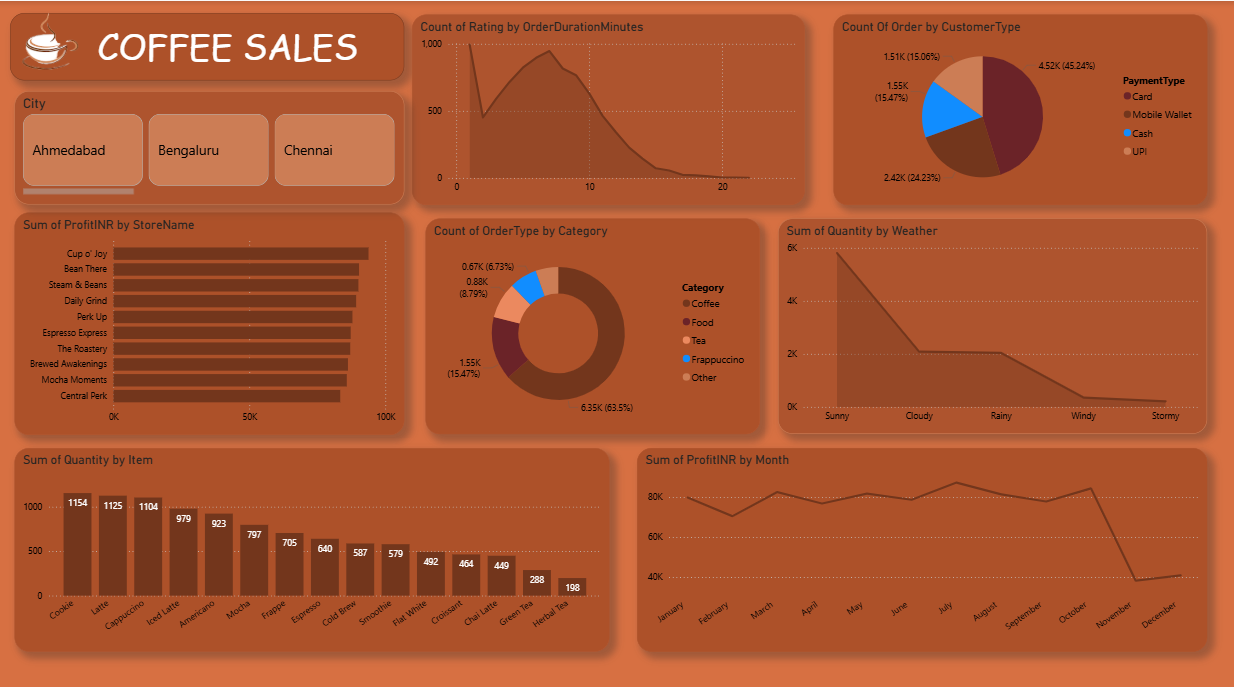

What the dashboard file says about the page in this screenshot:
{"tool":"powerbi","page":{"name":"Page 1","canvas":[1700,950],"ordinal":0},"visuals":[{"type":"group","id":"g1","title":"Group 1","box":[0,0,558,110],"z":0},{"type":"textbox","box":[16,17.4,542,92.6],"z":3,"group":"g1"},{"type":"image","box":[0,0,135.5,110],"z":503,"group":"g1"},{"type":"clusteredBarChart","fields":{"Category":["Sheet1.StoreName"],"Y":["Sum(Sheet1.ProfitINR)"]},"box":[22,290,536,306],"z":1000},{"type":"donutChart","fields":{"Category":["Sheet1.Category"],"Y":["CountNonNull(Sheet1.OrderType)"]},"box":[588.3,300,460,296.7],"z":2000},{"type":"clusteredColumnChart","fields":{"Category":["Sheet1.Item"],"Y":["Sum(Sheet1.Quantity)"]},"box":[22,614,818,280],"z":3000},{"type":"pieChart","title":"Count Of Order by CustomerType","fields":{"Y":["CountNonNull(Sheet1.OrderType)"],"Category":["Sheet1.PaymentType"]},"box":[1148,18,514,262],"z":4000},{"type":"lineChart","fields":{"Category":["Sheet1.OrderDate.Variation.Date Hierarchy.Month"],"Y":["Sum(Sheet1.ProfitINR)"]},"box":[878,614,784,280],"z":5000},{"type":"stackedAreaChart","fields":{"Category":["Sheet1.Weather"],"Y":["Sum(Sheet1.Quantity)"]},"box":[1072,300,590,296],"z":6000},{"type":"stackedAreaChart","fields":{"Y":["CountNonNull(Sheet1.Rating)"],"Category":["Sheet1.OrderDurationMinutes"]},"box":[570,18.3,540,261.7],"z":7000},{"type":"advancedSlicerVisual","fields":{"Values":["Sheet1.City"]},"box":[22,124,536,156],"z":8000}]}

Visuals, with their boxes in screenshot pixels (x1, y1, x2, y2), scaled from the page's 1700x950 canvas onto the 1234x687 screenshot:
"Group 1" group: <bbox>0, 0, 405, 80</bbox>
textbox: <bbox>12, 13, 405, 80</bbox>
image: <bbox>0, 0, 98, 80</bbox>
clusteredBarChart - Sheet1.StoreName x Sum(Sheet1.ProfitINR): <bbox>16, 210, 405, 431</bbox>
donutChart - Sheet1.Category x CountNonNull(Sheet1.OrderType): <bbox>427, 217, 761, 432</bbox>
clusteredColumnChart - Sheet1.Item x Sum(Sheet1.Quantity): <bbox>16, 444, 610, 647</bbox>
"Count Of Order by CustomerType" pieChart: <bbox>833, 13, 1206, 202</bbox>
lineChart - Sheet1.OrderDate.Variation.Date Hierarchy.Month x Sum(Sheet1.ProfitINR): <bbox>637, 444, 1206, 647</bbox>
stackedAreaChart - Sheet1.Weather x Sum(Sheet1.Quantity): <bbox>778, 217, 1206, 431</bbox>
stackedAreaChart - CountNonNull(Sheet1.Rating) x Sheet1.OrderDurationMinutes: <bbox>414, 13, 806, 202</bbox>
advancedSlicerVisual - Sheet1.City: <bbox>16, 90, 405, 202</bbox>
